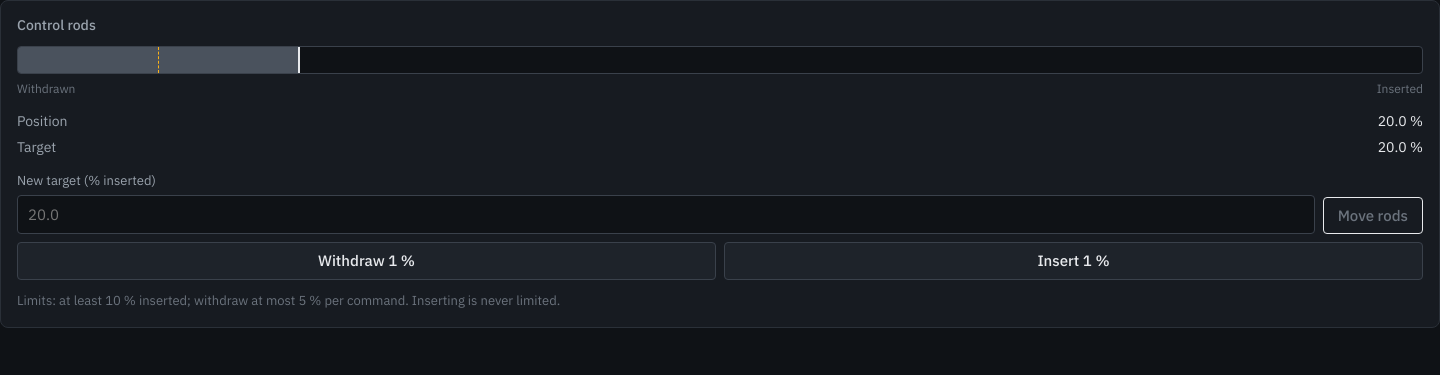
Scenario: Rod control › rejects 14 before sending it
The image size is (1440, 375).
Type "14" into the number field labelled "New target (% inserted)" at (666,214), box [17,195,1315,234]
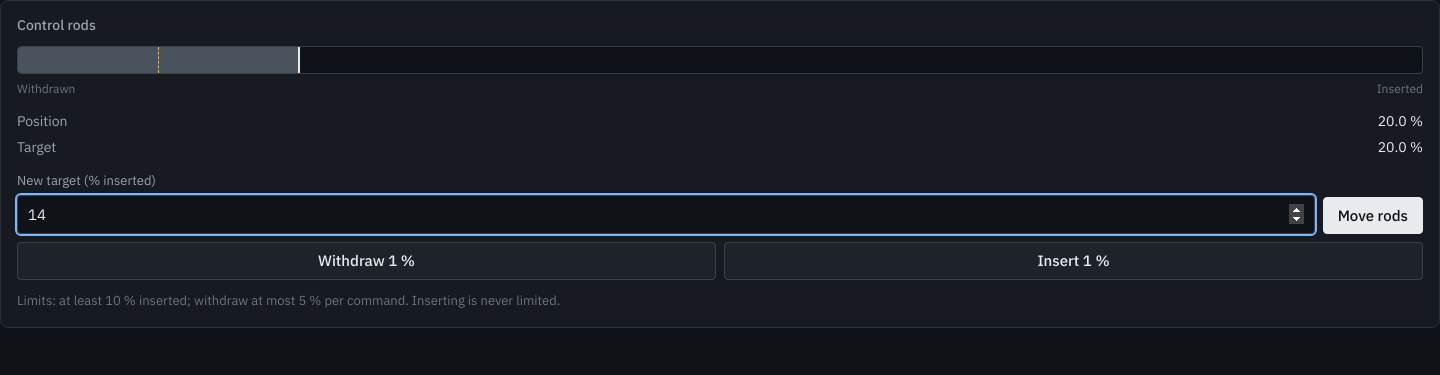
Click the button "Move rods" at (1373,216), box [1323,197,1423,234]
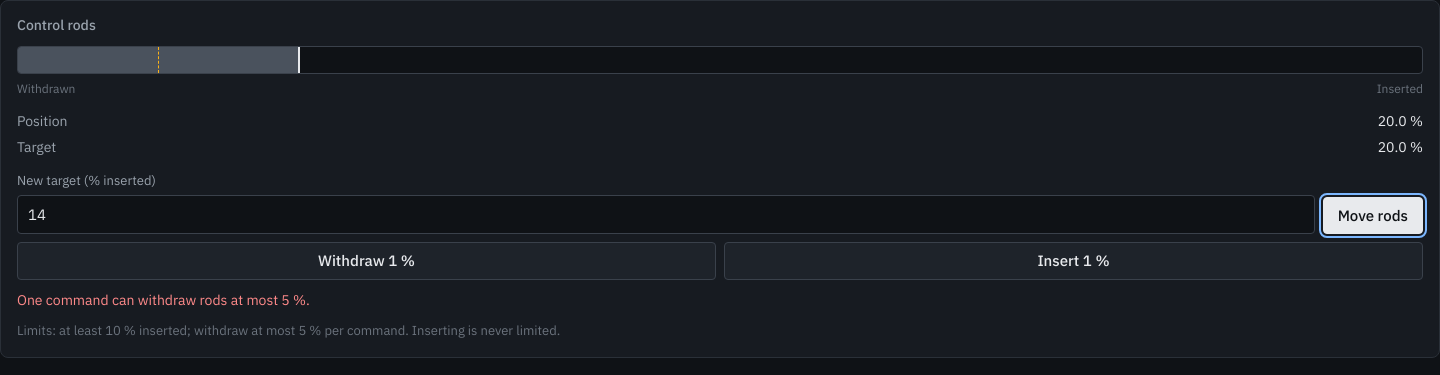
Check: the message shows "withdraw rods at most 5 %", box [17,291,310,309]
